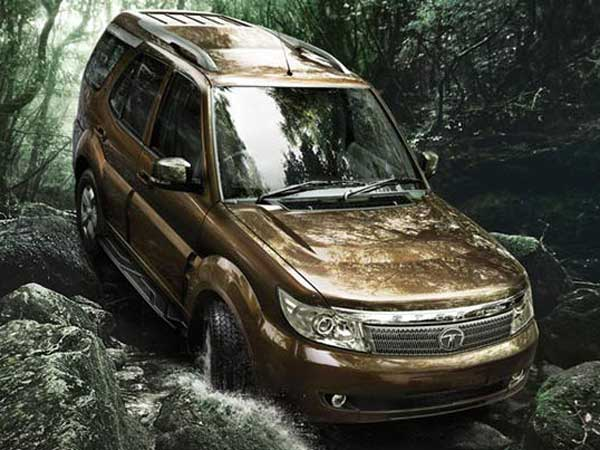car: (72, 14, 538, 425)
